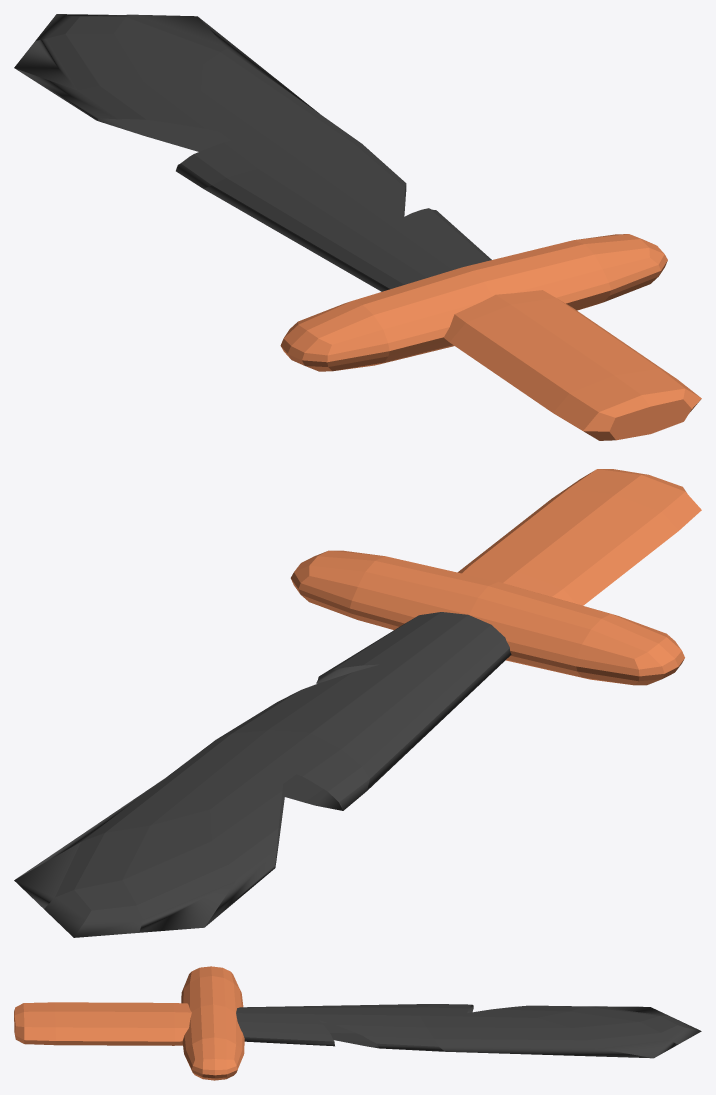
3 views of the same model, one above another, from view 1: azimuth 30°, elevation 25°; view 2: azimuth 150°, elevation 25°; view 3: azimuth 270°, elevation 25° (orthographic). The views are drawn at different scales.
Parts seen in each view (by area): view 1: 33; view 2: 33; view 3: 33.
Part boxes in pixels (x1=…): 33: x1=14, y1=14, x2=701, y2=440; 33: x1=14, y1=469, x2=701, y2=937; 33: x1=14, y1=966, x2=701, y2=1080.
Size of the model in its own units: 12.51 by 2.04 by 33.6.
